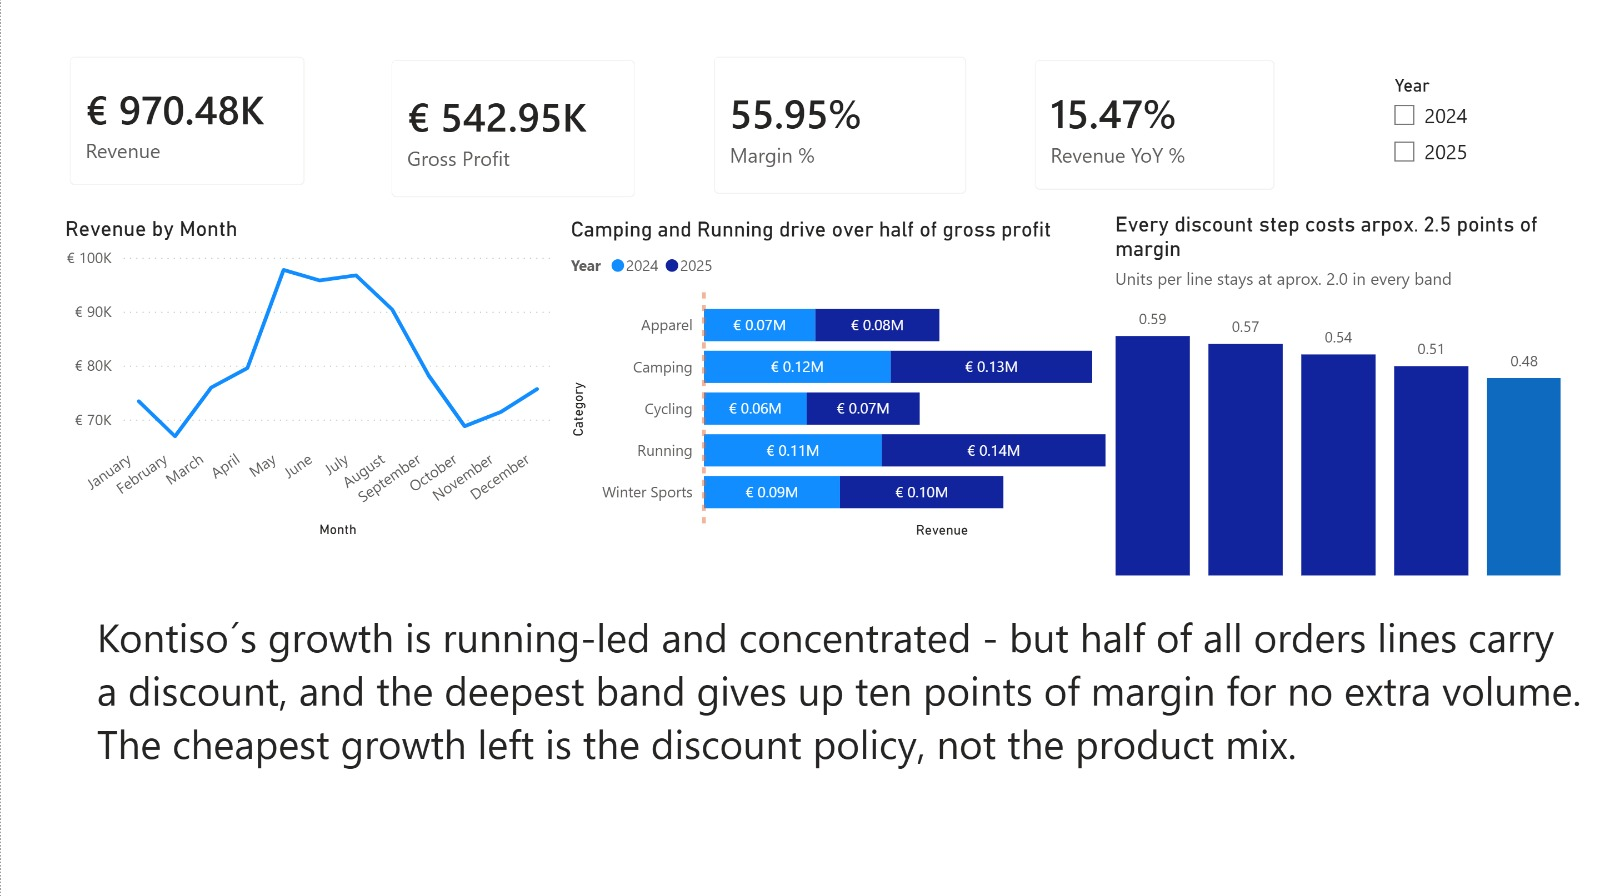

The page's visual inventory and layout, read from the dashboard file:
{"tool":"powerbi","page":{"name":"Page 1","canvas":[1280,720],"ordinal":0},"visuals":[{"type":"lineChart","fields":{"Y":["Sheet1.Revenue"],"Category":["dim_date.Date.Variation.Date Hierarchy.Month"]},"box":[47,172.5,398.7,261.5],"z":0},{"type":"barChart","title":"Camping and Running drive over half of gross profit","fields":{"Series":["dim_date.Date.Variation.Date Hierarchy.Year"],"Category":["dim_product.Category"],"Y":["Sheet1.Revenue"]},"box":[451.3,173.1,497,261.5],"z":1000},{"type":"cardVisual","fields":{"Data":["Sheet1.Revenue"]},"box":[37.7,27.8,222.6,137.2],"z":3000},{"type":"cardVisual","fields":{"Data":["Sheet1.Gross Profit"]},"box":[295.5,30.9,229.4,144.7],"z":4000},{"type":"cardVisual","fields":{"Data":["Sheet1.Margin %"]},"box":[553.3,27.8,236.2,144.7],"z":5000},{"type":"cardVisual","fields":{"Data":["Sheet1.Revenue YoY %"]},"box":[809.9,30.9,226.9,138.5],"z":6000},{"type":"slicer","fields":{"Values":["dim_date.Year"]},"box":[1102.3,54.4,136.6,104.5],"z":7000},{"type":"textbox","box":[71.7,482.2,1197.5,238],"z":8000},{"type":"clusteredColumnChart","title":"Every discount step costs arpox. 2.5 points of margin","fields":{"Category":["fact_sales.Discount"],"Y":["fact_sales.Margin %"]},"box":[886.5,169.4,366.6,297.4],"z":8001}]}

Visuals, with their boxes in screenshot pixels (x1, y1, x2, y2), scaled from the page's 1280x720 canvas onto the 1600x896 screenshot:
lineChart - Sheet1.Revenue x dim_date.Date.Variation.Date Hierarchy.Month: region(59, 215, 557, 540)
"Camping and Running drive over half of gross profit" barChart: region(564, 215, 1185, 541)
cardVisual - Sheet1.Revenue: region(47, 35, 325, 205)
cardVisual - Sheet1.Gross Profit: region(369, 38, 656, 219)
cardVisual - Sheet1.Margin %: region(692, 35, 987, 215)
cardVisual - Sheet1.Revenue YoY %: region(1012, 38, 1296, 211)
slicer - dim_date.Year: region(1378, 68, 1549, 198)
textbox: region(90, 600, 1586, 895)
"Every discount step costs arpox. 2.5 points of margin" clusteredColumnChart: region(1108, 211, 1566, 581)
